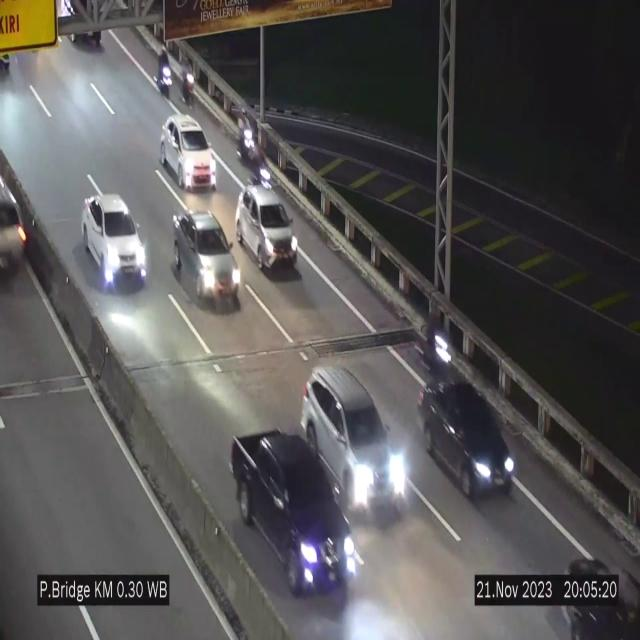Car: (228, 428, 356, 604), (420, 340, 516, 497), (303, 365, 399, 519), (172, 210, 242, 308), (82, 194, 146, 287), (236, 183, 298, 271), (160, 114, 217, 189)
Motorcycle: (422, 302, 451, 372), (236, 105, 254, 166), (254, 141, 272, 194), (180, 56, 196, 111), (156, 50, 172, 100)
